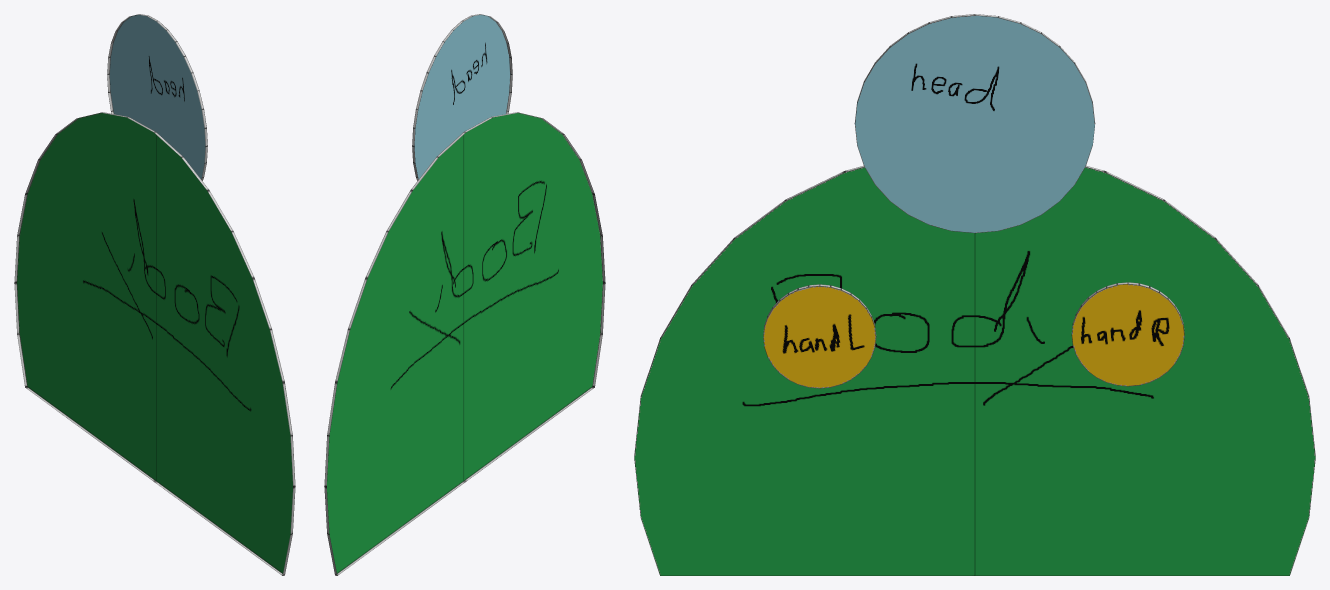
Rendered from BaseModelTestTextured02.fbx.
The picture shows the model from 3 angles, left to right: view 1: azimuth 30°, elevation 25°; view 2: azimuth 150°, elevation 25°; view 3: azimuth 270°, elevation 25°; orthographic projection. The views are drawn at different scales.
Parts seen in each view (by area): view 1: Body, Head; view 2: Body, Head; view 3: Body, Head, Hand1, Hand2.
Part boxes in pixels (x1,y1,x2,y2): Body: [14, 112, 295, 575]; Head: [107, 14, 207, 180]; Body: [324, 112, 605, 575]; Head: [412, 14, 512, 180]; Body: [634, 165, 1315, 575]; Head: [854, 14, 1095, 233]; Hand1: [1071, 282, 1184, 386]; Hand2: [763, 284, 876, 388].
Size of the model in its own units: 2.99 by 182 by 200.
Materials: 3 (3 with a texture image).
